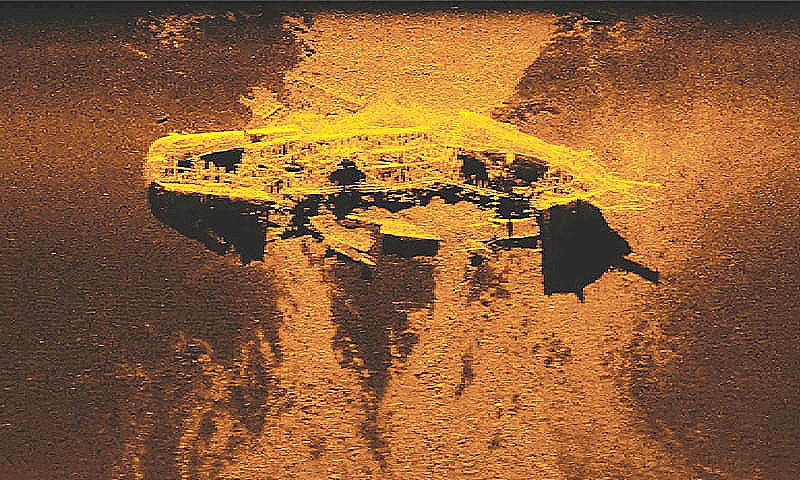ship: (143, 106, 663, 267)
